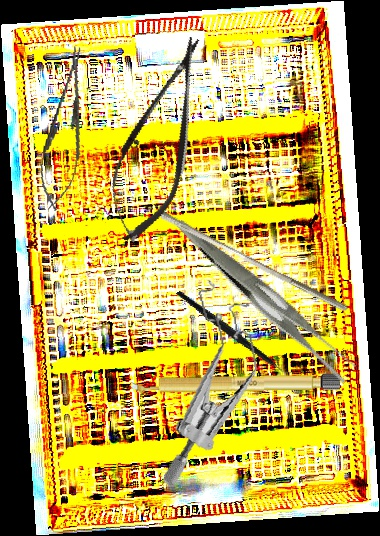Chopper: (175, 261, 297, 403)
Dressing Forceps: (175, 181, 361, 416)
Micro Scissor: (93, 27, 226, 251)
Needle Holder: (33, 42, 98, 214)
Pusher: (156, 210, 353, 313)
Scalpel Handle: (130, 373, 341, 394)
Speculum: (131, 273, 278, 488)
